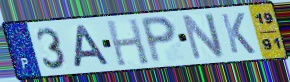3: (35, 26, 67, 71)
A: (71, 23, 112, 69)
H: (104, 17, 152, 68)
K: (219, 12, 258, 56)
N: (180, 12, 227, 62)
P: (139, 15, 179, 66)
